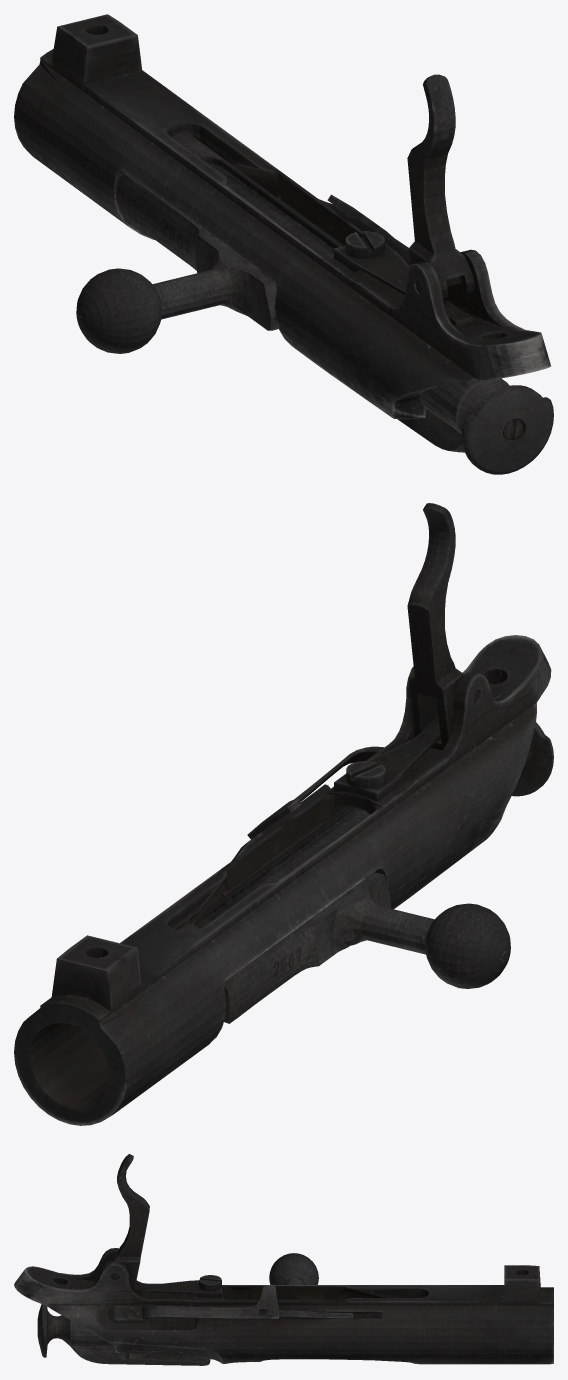
The picture shows the model from 3 angles, top to bottom: view 1: azimuth 30°, elevation 25°; view 2: azimuth 150°, elevation 25°; view 3: azimuth 270°, elevation 25°; orthographic projection. The views are drawn at different scales.
Visible parts, largest first — view 1: TW_5bfd297f0db834001a669119_PZ_Import; view 2: TW_5bfd297f0db834001a669119_PZ_Import; view 3: TW_5bfd297f0db834001a669119_PZ_Import.
Part boxes in pixels (<box>): TW_5bfd297f0db834001a669119_PZ_Import: <box>14,14,553,474</box>; TW_5bfd297f0db834001a669119_PZ_Import: <box>14,503,553,1125</box>; TW_5bfd297f0db834001a669119_PZ_Import: <box>14,1154,553,1365</box>.
Bounding box in the file's own units: 0.0441 × 0.1308 × 0.0555.
1 material, 1 textured.
